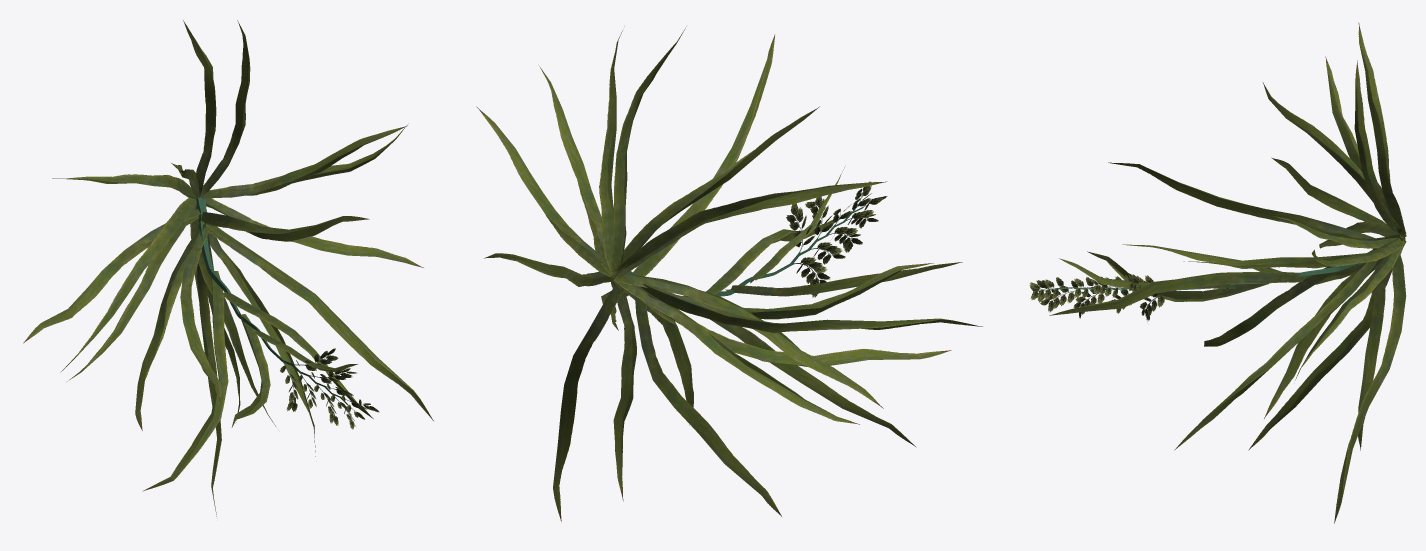
The picture shows the model from 3 angles, left to right: view 1: azimuth 30°, elevation 25°; view 2: azimuth 150°, elevation 25°; view 3: azimuth 270°, elevation 25°; orthographic projection. The views are drawn at different scales.
Parts seen in each view (by area): view 1: GC14_3; view 2: GC14_3; view 3: GC14_3.
Boxes of the visible parts, box(x1,y1,x2,y2) form: GC14_3: box(23, 20, 433, 518); GC14_3: box(476, 26, 982, 521); GC14_3: box(1029, 22, 1406, 523).
Size of the model in its own units: 0.9751 by 1.05 by 0.7858.
Materials: 3 (3 with a texture image).
